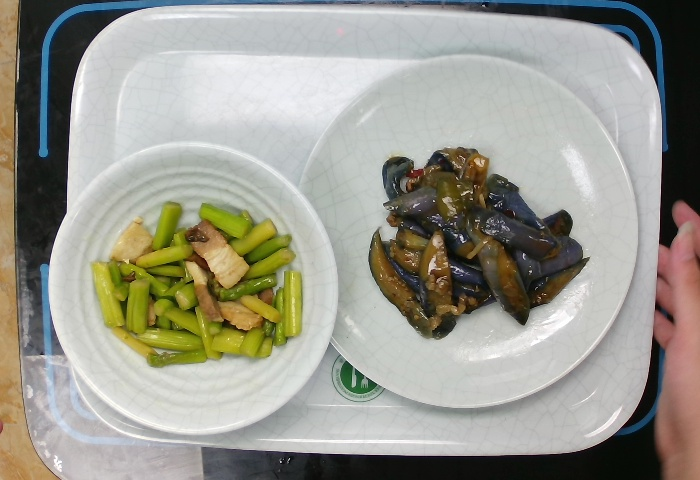JYsf-Da_Yuan_Pan: (297, 47, 644, 416)
JYsf-Xiao_Tang_Wan: (45, 138, 343, 439)
